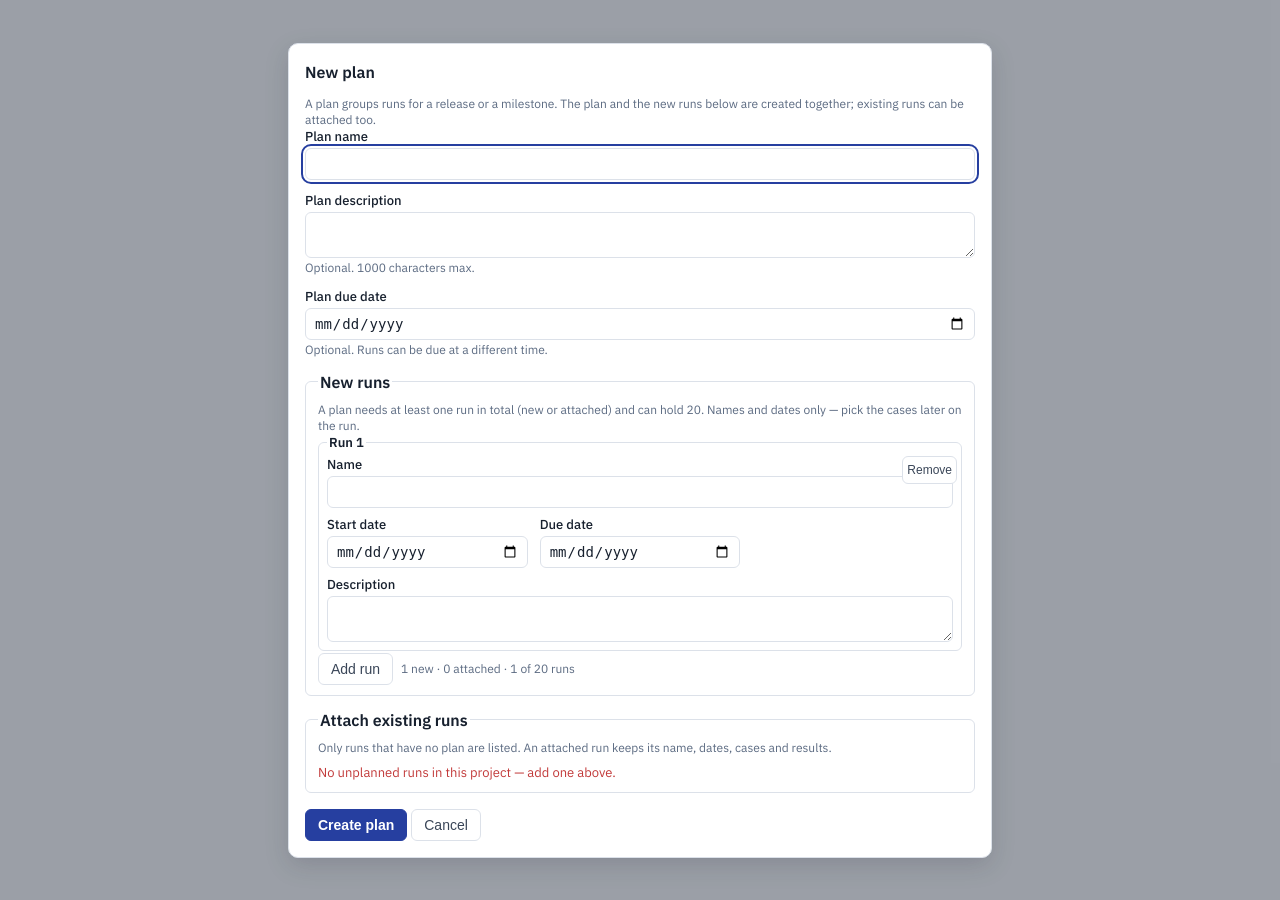
Test: PlanWithRunsDialog › keeps a run's start date on or before its due date
This screenshot has width=1280, height=900.
Type "Release 2.5" into the field labelled "Plan name" at coordinates (640, 164), box [305, 148, 975, 180]
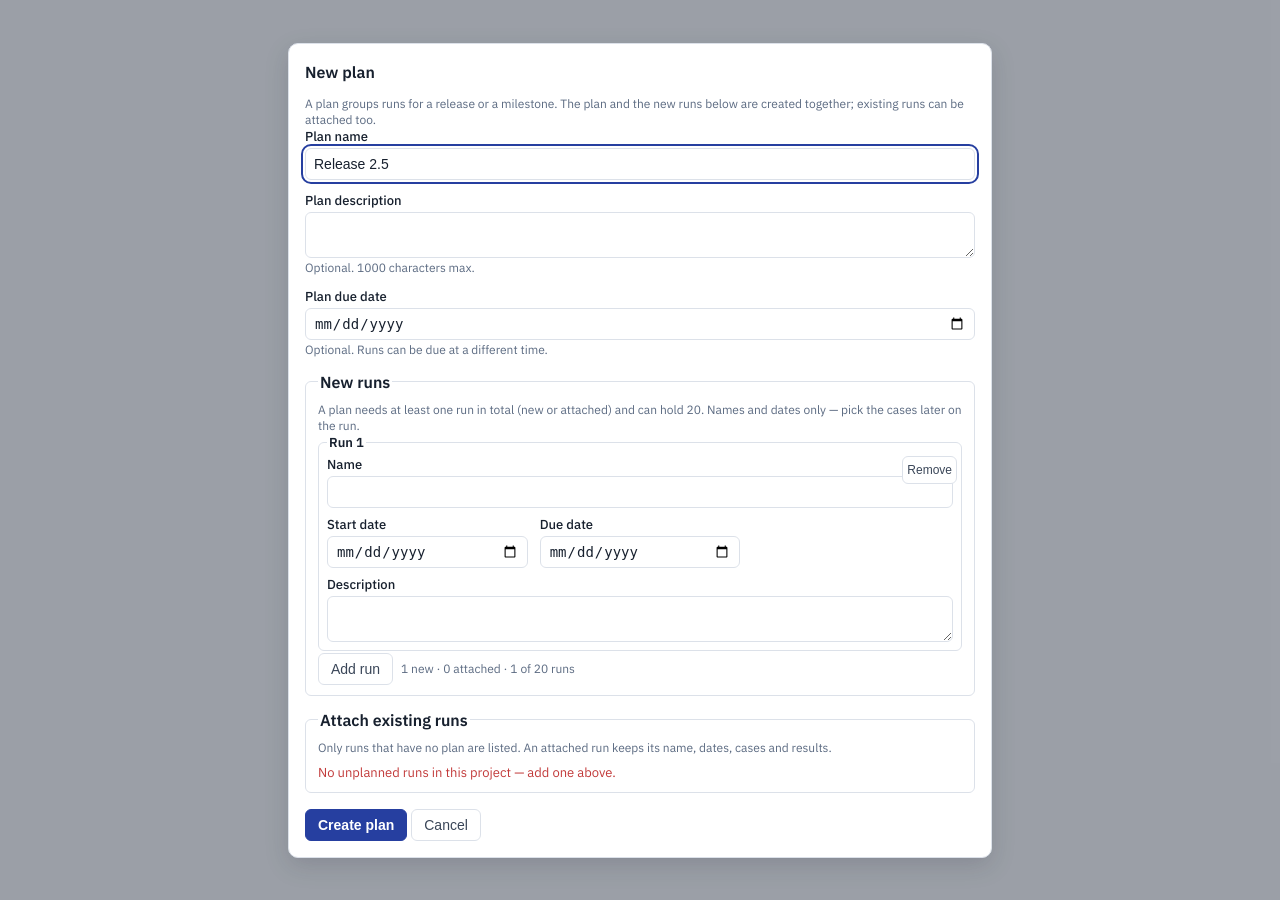
Type "Smoke" into the field labelled "Name" at coordinates (640, 492), box [327, 476, 953, 508]
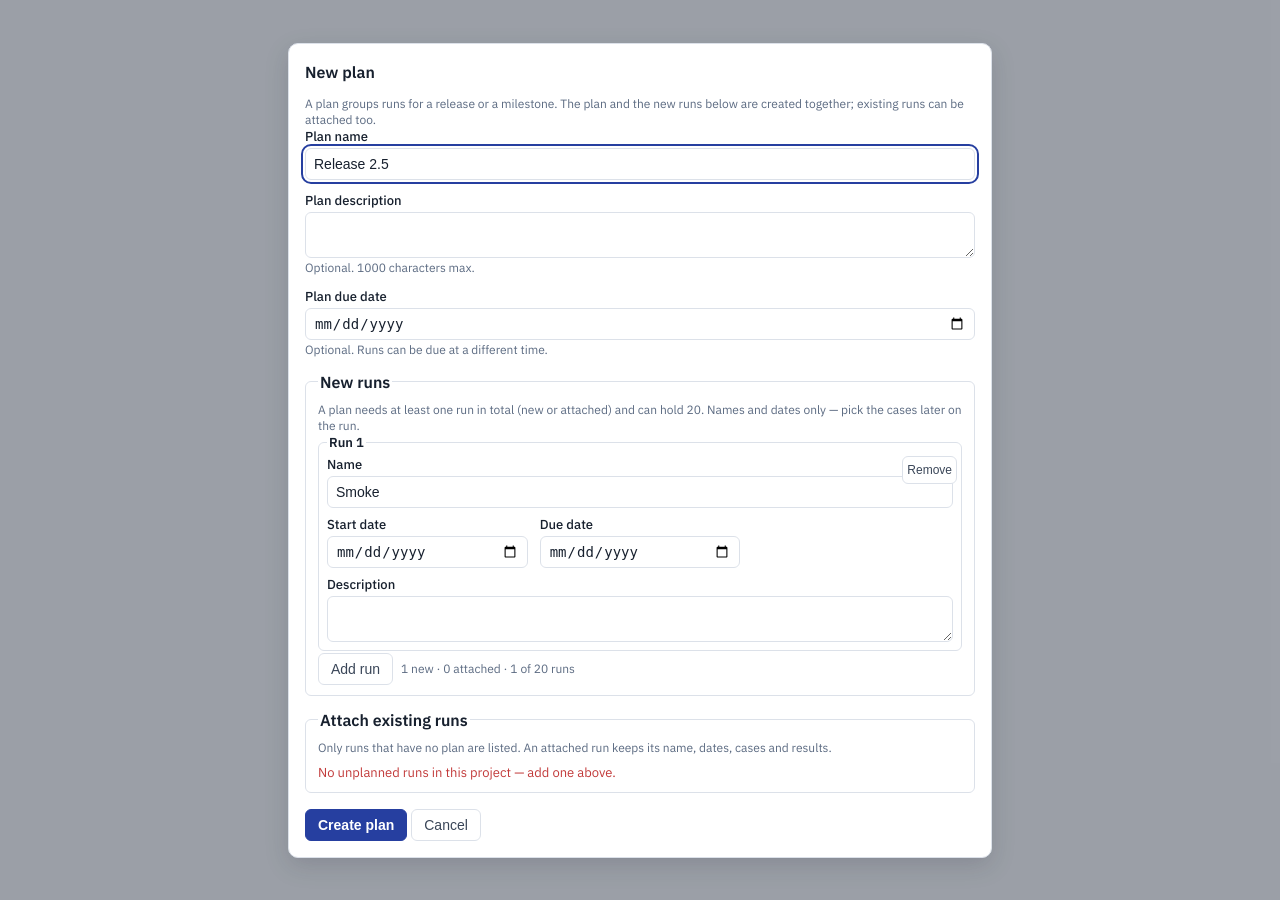
Type "2026-12-10" into the date field labelled "Start date" at coordinates (427, 552), box [327, 536, 528, 568]
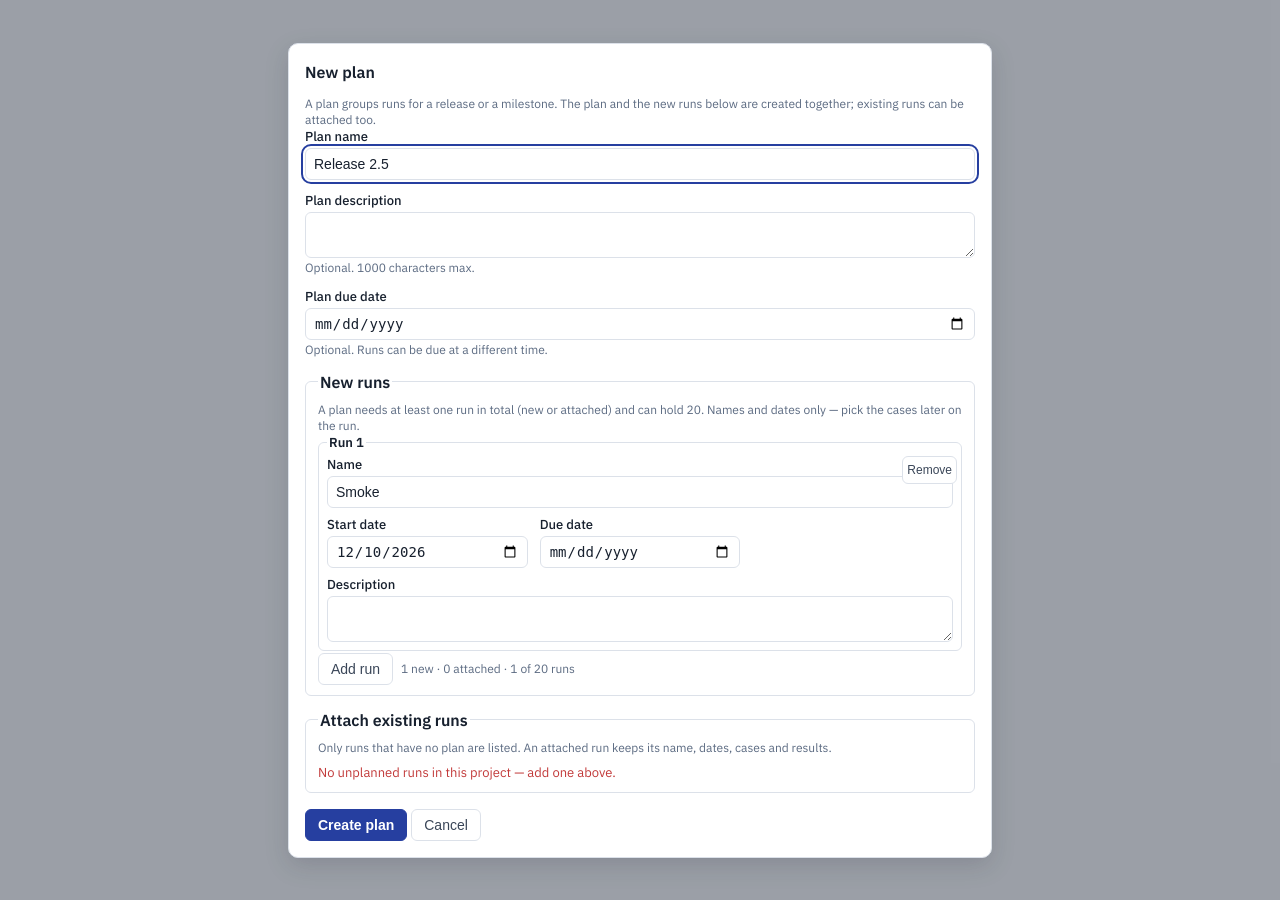
Type "2026-12-01" into the date field labelled "Due date" at coordinates (640, 552), box [540, 536, 740, 568]
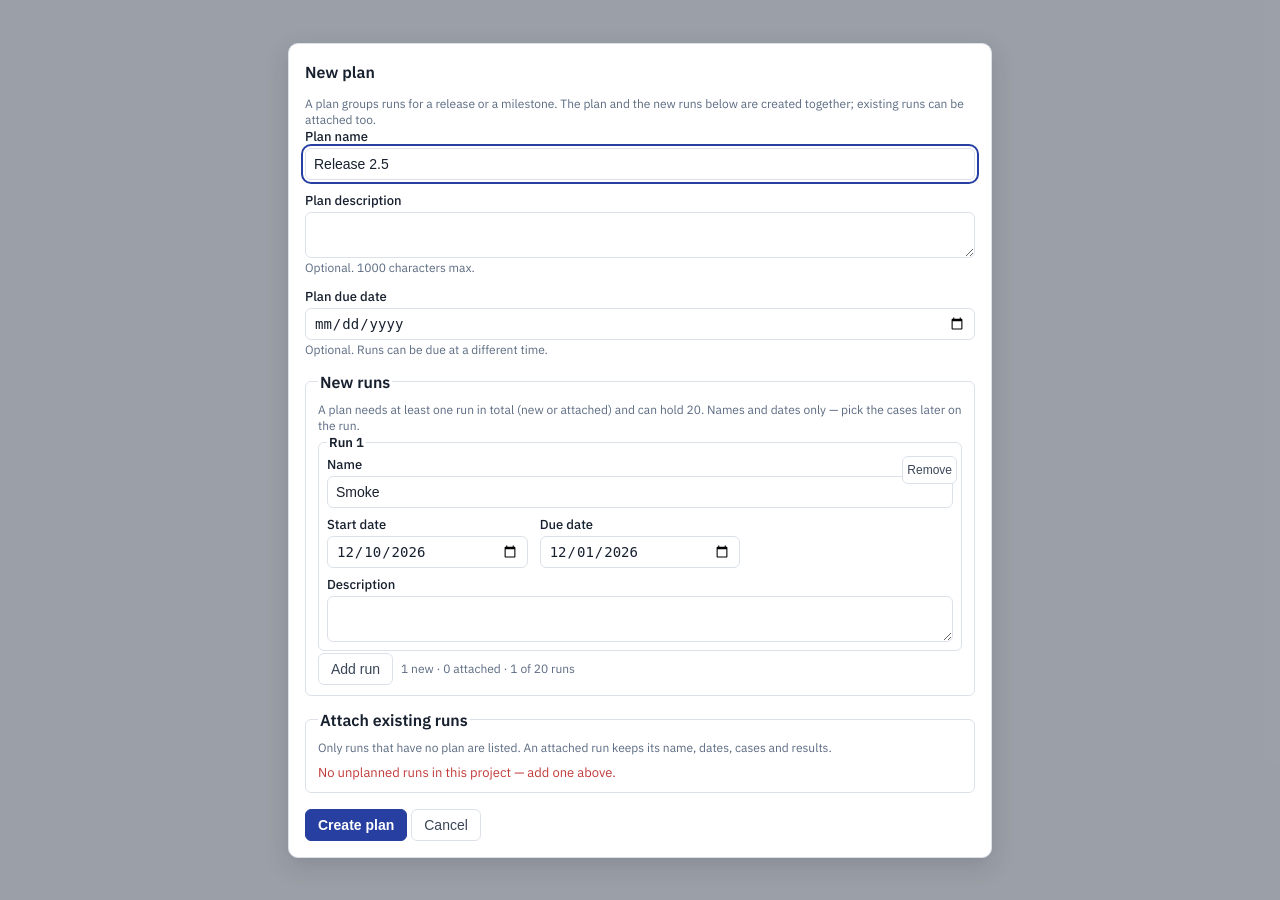
Click the button "Create plan" at coordinates (356, 824), box [305, 808, 407, 840]
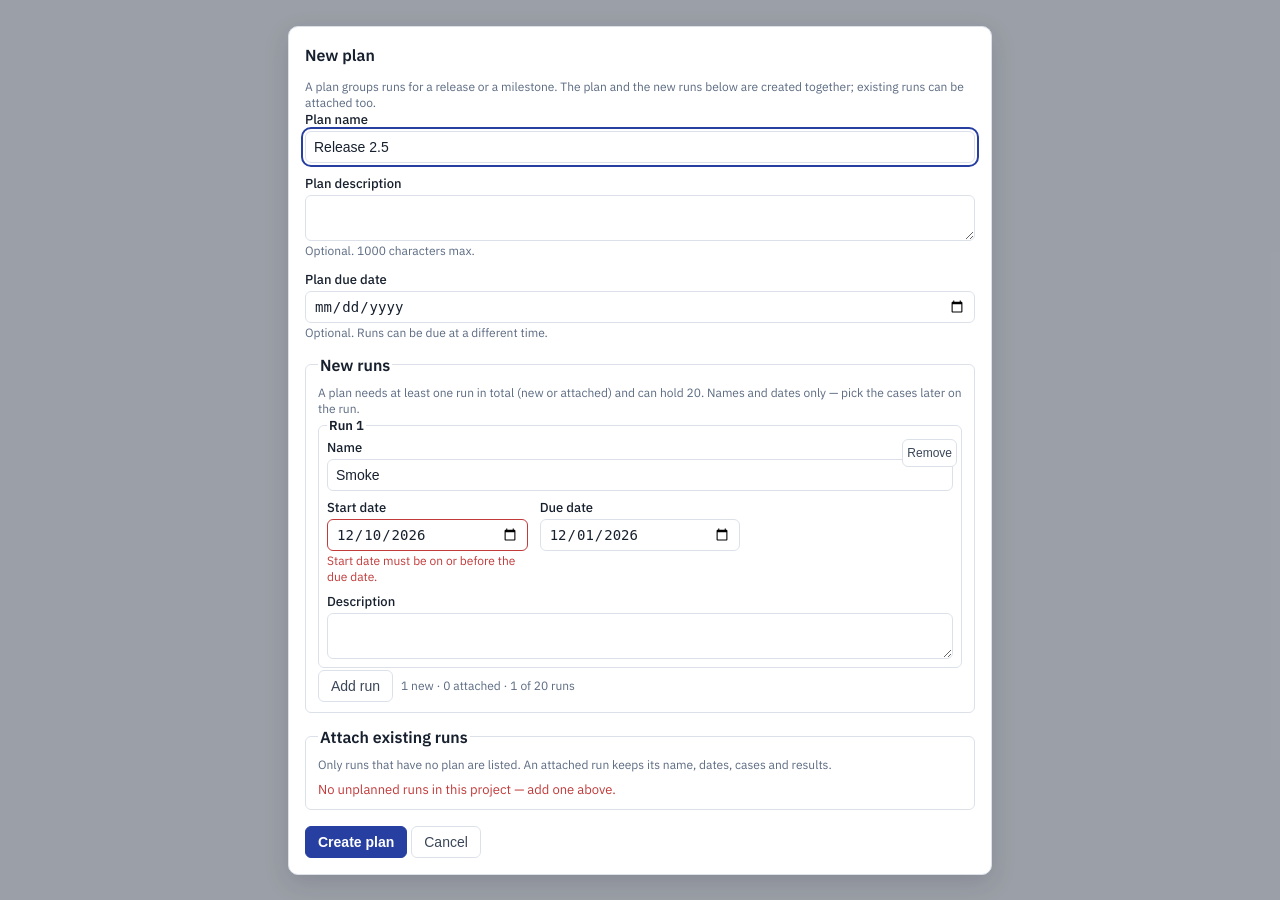
Check: the text "Start date must be on or before the due date." is shown, box [327, 552, 528, 584]
